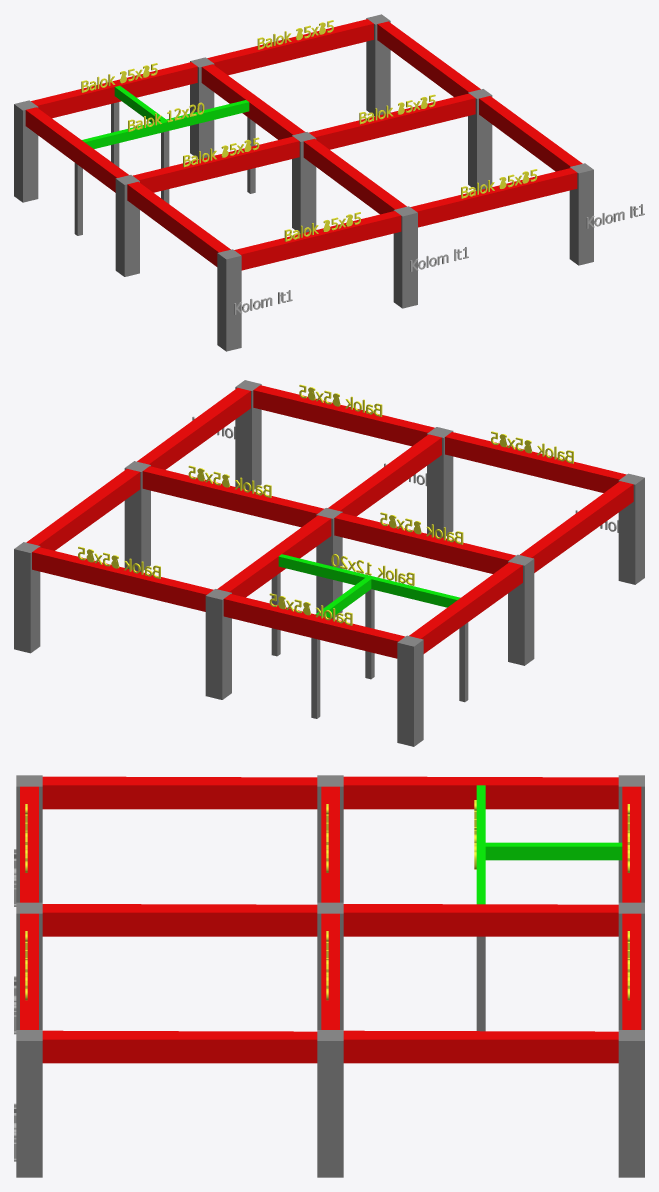
The model's file is Balok lt 1.fbx.
3 views of the same model, one above another, from view 1: azimuth 30°, elevation 25°; view 2: azimuth 150°, elevation 25°; view 3: azimuth 270°, elevation 25° (orthographic). The views are drawn at different scales.
Visible parts, largest first — view 1: Model, Balok_35x35_1, Balok_35x35_6, Balok_35x35_5, Balok_35x35_4, Balok_35x35_3, Balok_35x35_2, Balok_12x20_1; view 2: Model, Balok_35x35_5, Balok_35x35_2, Balok_35x35_4, Balok_35x35_1, Balok_35x35_3, Balok_35x35_6, Balok_12x20_1; view 3: Model.
Part boxes in pixels (x1=…): Model: x1=14, y1=14, x2=593, y2=351; Balok_35x35_1: x1=284, y1=212, x2=360, y2=241; Balok_35x35_6: x1=257, y1=20, x2=333, y2=49; Balok_35x35_5: x1=81, y1=63, x2=157, y2=92; Balok_35x35_4: x1=359, y1=94, x2=435, y2=124; Balok_35x35_3: x1=183, y1=137, x2=259, y2=167; Balok_35x35_2: x1=461, y1=169, x2=537, y2=198; Balok_12x20_1: x1=128, y1=102, x2=204, y2=131; Model: x1=14, y1=380, x2=644, y2=746; Balok_35x35_5: x1=269, y1=593, x2=352, y2=625; Balok_35x35_2: x1=299, y1=384, x2=382, y2=416; Balok_35x35_4: x1=188, y1=465, x2=271, y2=497; Balok_35x35_1: x1=491, y1=431, x2=573, y2=463; Balok_35x35_3: x1=380, y1=512, x2=463, y2=544; Balok_35x35_6: x1=78, y1=546, x2=160, y2=578; Balok_12x20_1: x1=331, y1=554, x2=414, y2=585; Model: x1=16, y1=775, x2=644, y2=1177.
Size of the model in its own units: 9.49 by 2.25 by 8.38.
